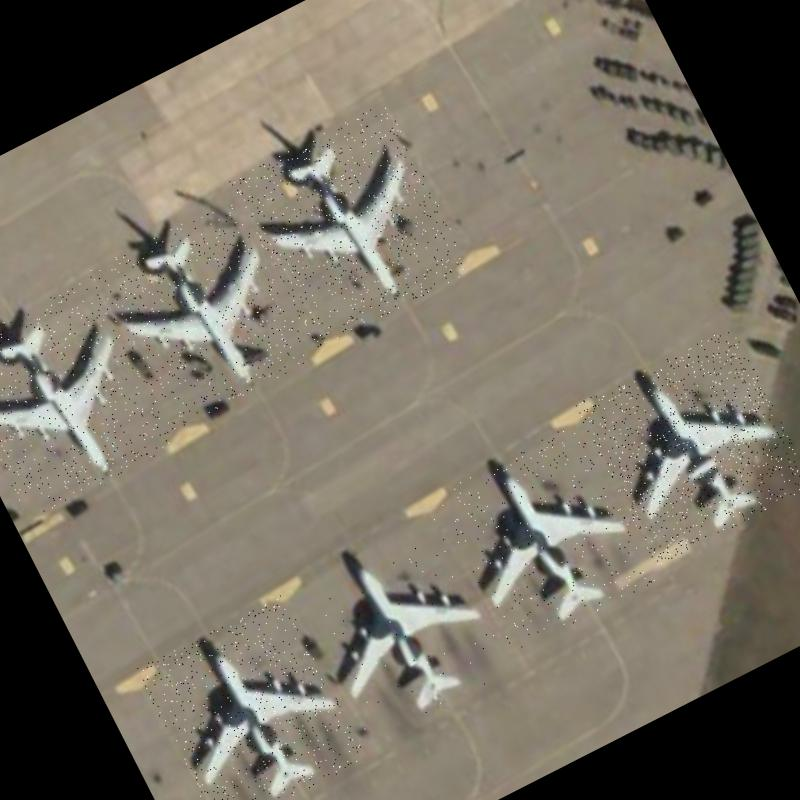A7: (229, 101, 472, 350), (574, 324, 800, 566), (84, 198, 314, 434), (432, 422, 656, 654), (292, 517, 511, 742), (135, 593, 367, 800), (0, 277, 175, 520)
